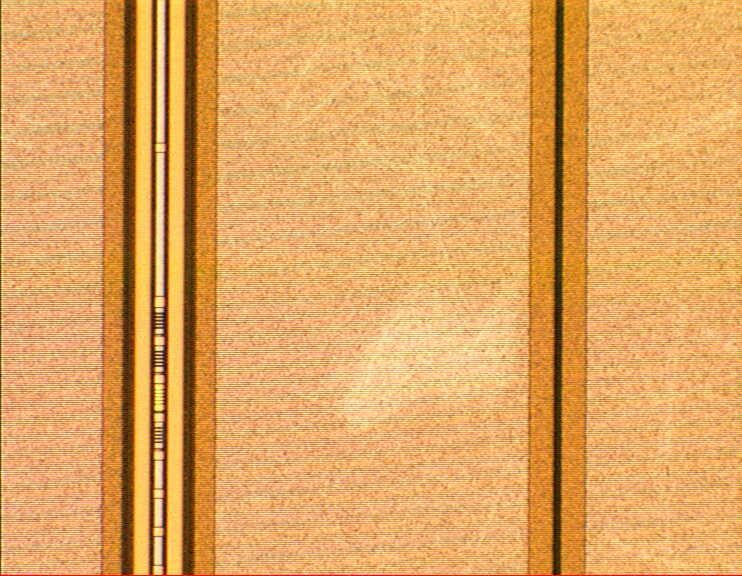SCRATCH: (267, 1, 742, 437)
